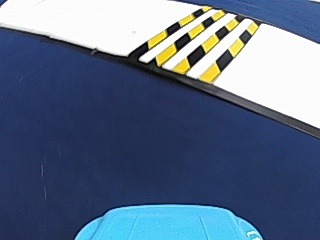bump: (129, 9, 259, 79)
